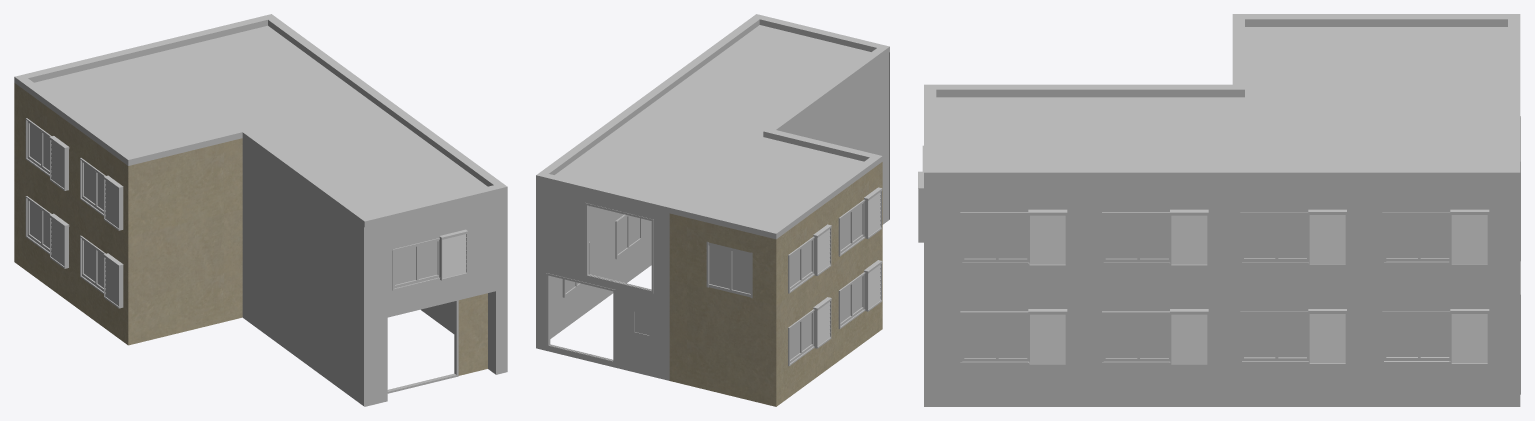
Rendered from JpHouse_26a.fbx.
The picture shows the model from 3 angles, left to right: view 1: azimuth 30°, elevation 25°; view 2: azimuth 150°, elevation 25°; view 3: azimuth 270°, elevation 25°; orthographic projection. The views are drawn at different scales.
Visible parts, largest first — view 1: JpHouse_26a; view 2: JpHouse_26a; view 3: JpHouse_26a.
Part boxes in pixels (box(x1,y1,x2,y2)): JpHouse_26a: box(14, 14, 507, 406); JpHouse_26a: box(536, 14, 889, 406); JpHouse_26a: box(918, 14, 1520, 406).
Bounding box in the file's own units: 9.32 × 6.21 × 14.46.
